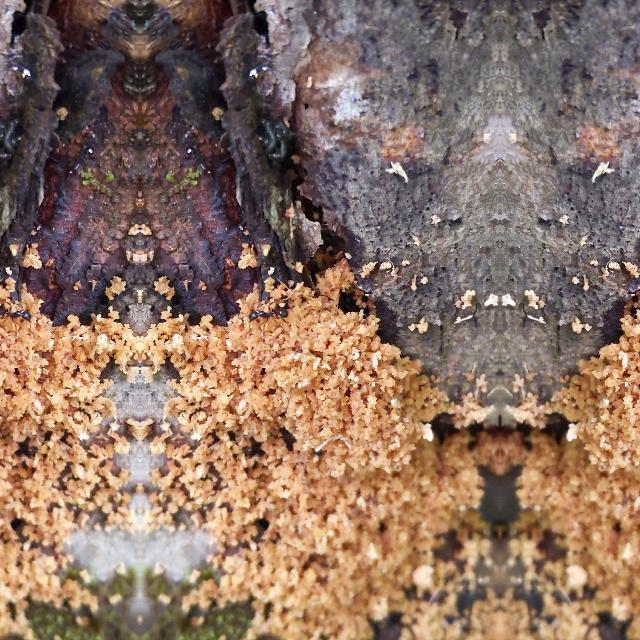Apheanogaster: (244, 289, 292, 331), (0, 289, 34, 331)
